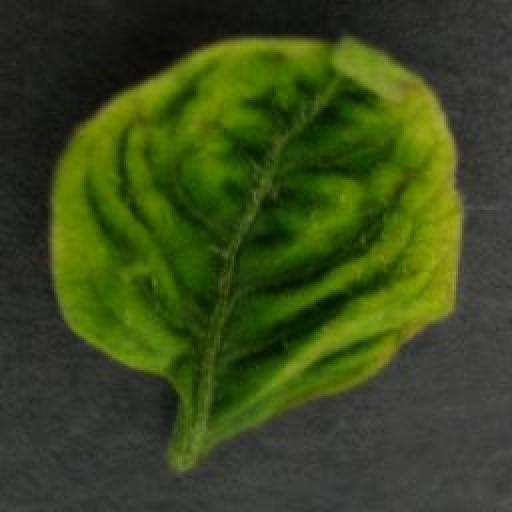disease_tomato: (48, 33, 466, 439)
